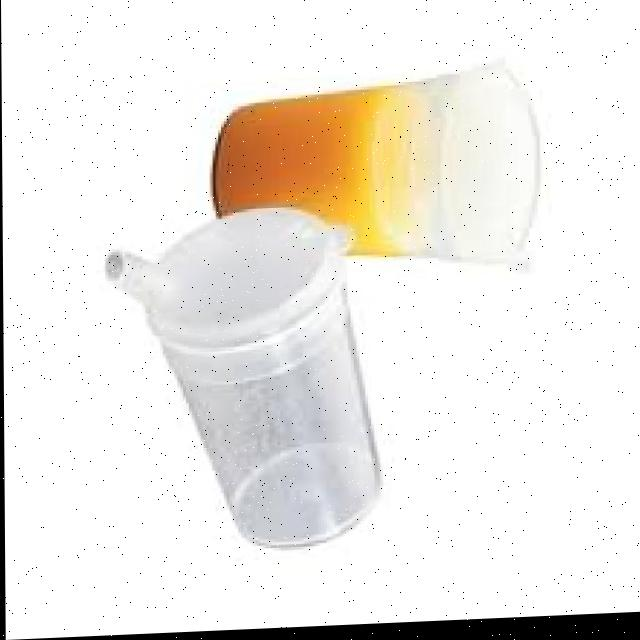cup: (174, 62, 560, 306)
